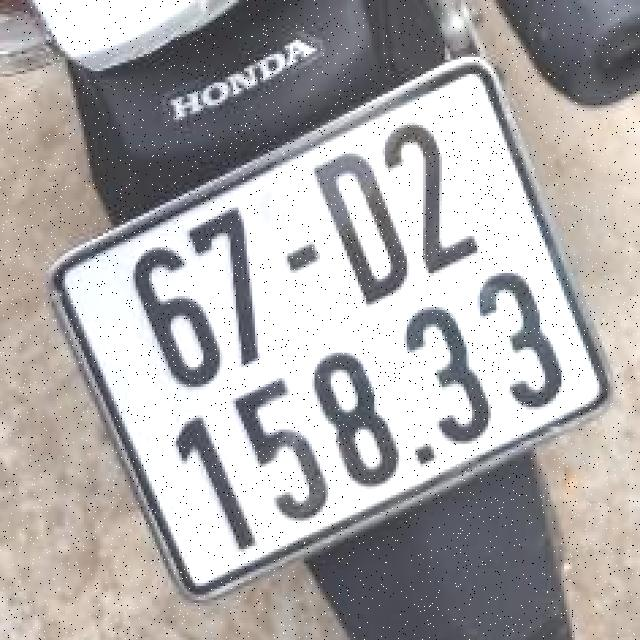1: (150, 404, 274, 575)
2: (365, 101, 483, 281)
3: (388, 285, 513, 460), (467, 253, 574, 421)
5: (213, 363, 348, 542)
6: (111, 227, 237, 415)
7: (180, 187, 298, 380)
8: (301, 338, 418, 496)
D: (306, 148, 425, 325)
